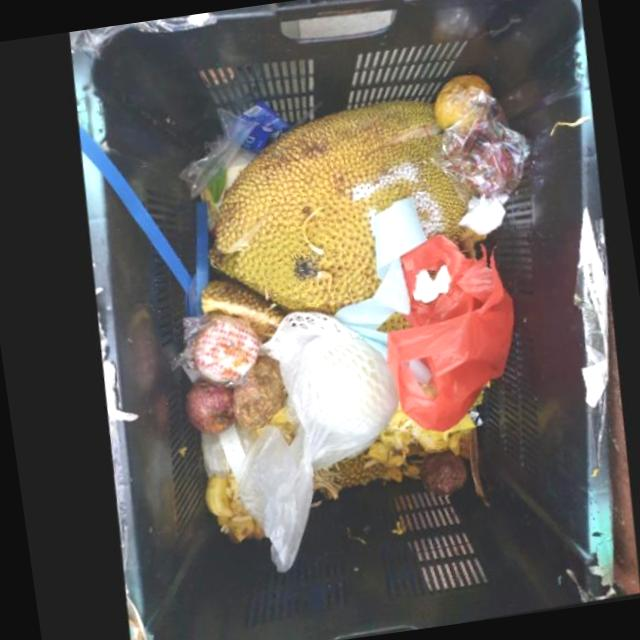tui_ni_long: (382, 235, 509, 432)
vo_rau_cu: (228, 356, 282, 429)
vo_trai_cay: (202, 100, 469, 316), (364, 406, 473, 466), (194, 275, 282, 343), (315, 443, 402, 500), (203, 476, 262, 542), (181, 378, 230, 434), (415, 450, 464, 495)
